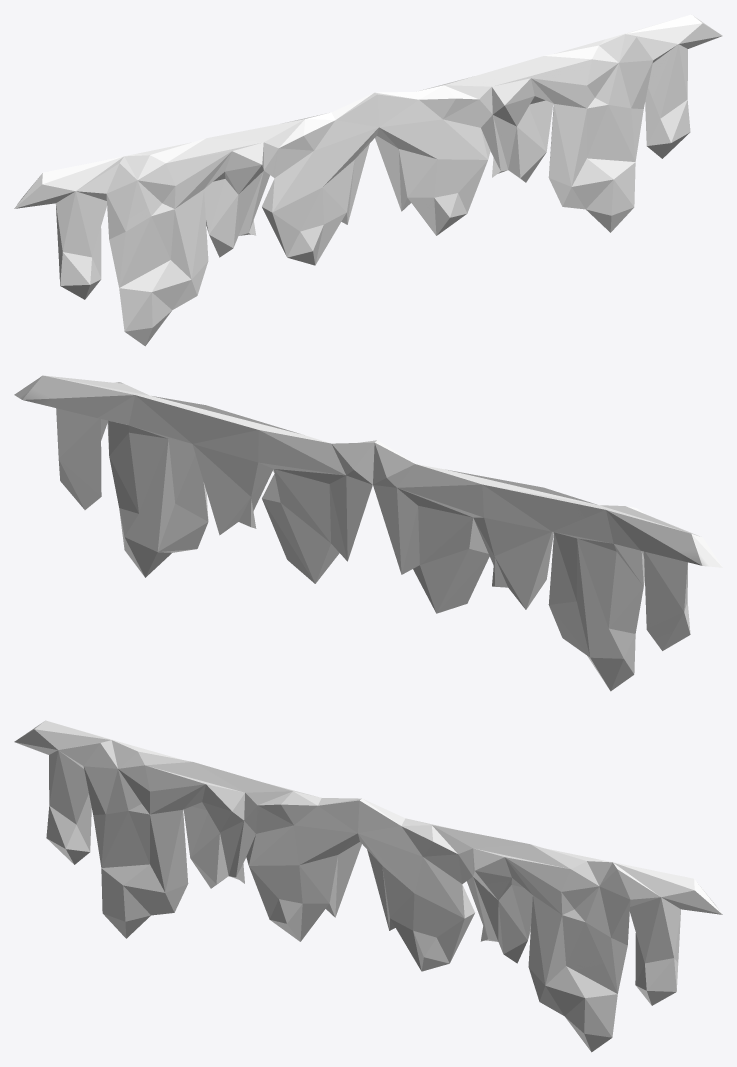
The model's file is Plant01.fbx.
The picture shows the model from 3 angles, top to bottom: view 1: azimuth 30°, elevation 25°; view 2: azimuth 150°, elevation 25°; view 3: azimuth 330°, elevation 25°; orthographic projection.
Visible parts, largest first — view 1: Plant01; view 2: Plant01; view 3: Plant01.
Part boxes in pixels (left/top/right/bottom): Plant01: left=14, top=14, right=722, bottom=346; Plant01: left=14, top=375, right=722, bottom=691; Plant01: left=14, top=720, right=722, bottom=1052.
Size of the model in its own units: 214 by 56.33 by 11.1.
